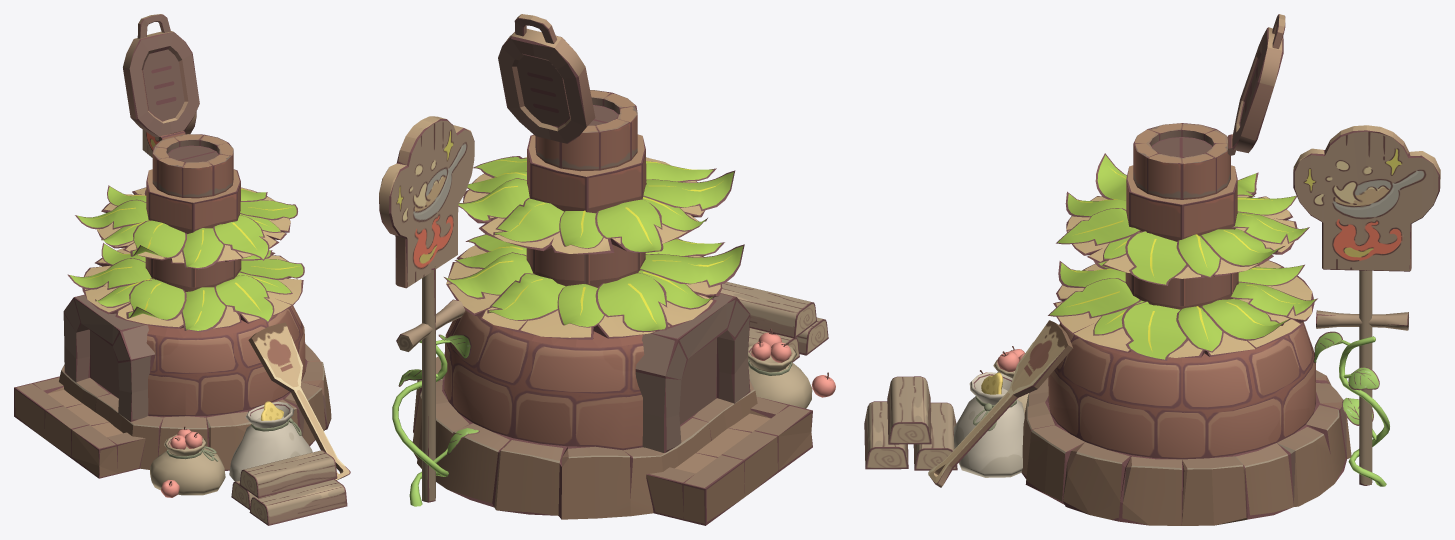
The model's file is Mesh_Home_RF_Cook_SM.fbx.
3 renders of one model, left to right at view 1: azimuth 30°, elevation 25°; view 2: azimuth 150°, elevation 25°; view 3: azimuth 270°, elevation 25°, orthographic. The views are drawn at different scales.
Parts seen in each view (by area): view 1: Mesh_Home_RF_Cook; view 2: Mesh_Home_RF_Cook, Mesh_Home_RF_Cook_P; view 3: Mesh_Home_RF_Cook, Mesh_Home_RF_Cook_P.
Boxes of the visible parts, x1=… form: Mesh_Home_RF_Cook: x1=14, y1=14, x2=350, y2=525; Mesh_Home_RF_Cook: x1=379, y1=14, x2=835, y2=525; Mesh_Home_RF_Cook_P: x1=398, y1=334, x2=479, y2=454; Mesh_Home_RF_Cook: x1=864, y1=14, x2=1440, y2=525; Mesh_Home_RF_Cook_P: x1=1313, y1=331, x2=1379, y2=425.
Bounding box in the file's own units: 165 × 229 × 272.
Materials: 1 (1 with a texture image).
